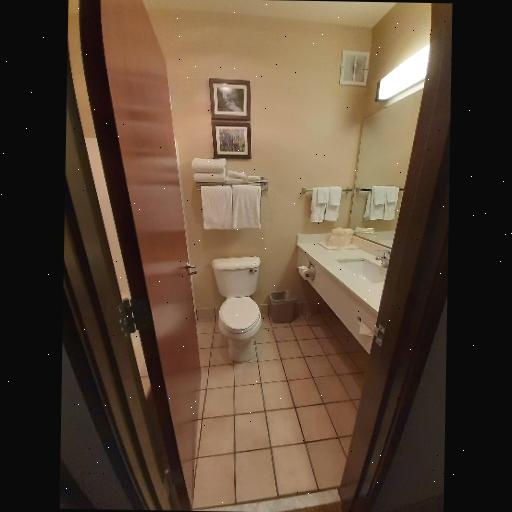clean_floor: (193, 304, 363, 503)
clean_sink: (296, 229, 394, 353)
clean_toilet: (207, 254, 270, 368)
folded_towel: (197, 183, 268, 233), (190, 152, 226, 190), (309, 184, 341, 226), (224, 170, 266, 185)
